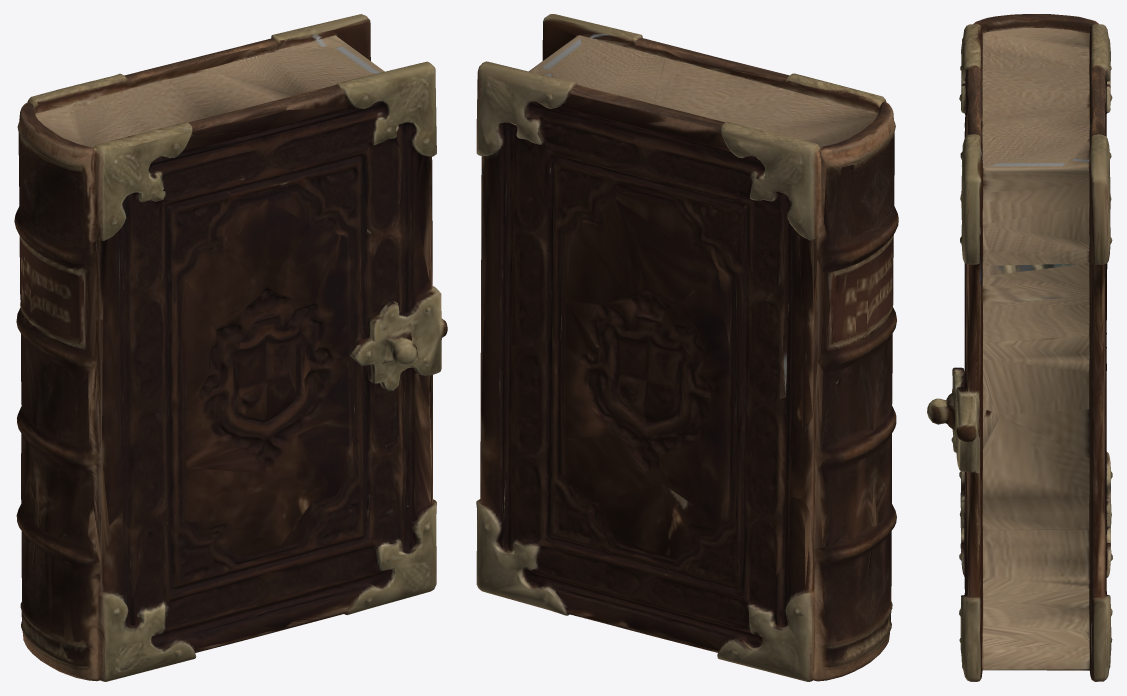
The model's file is Item_V02.fbx.
3 renders of one model, left to right at view 1: azimuth 30°, elevation 25°; view 2: azimuth 150°, elevation 25°; view 3: azimuth 270°, elevation 25°, orthographic. The views are drawn at different scales.
Parts seen in each view (by area): view 1: Body_V02; view 2: Body_V02; view 3: Body_V02.
Part boxes in pixels (x1,y1,x2,y2): Body_V02: (14, 14, 447, 681); Body_V02: (476, 14, 898, 681); Body_V02: (927, 14, 1112, 681).
Size of the model in its own units: 0.1767 by 0.24 by 0.0783.
